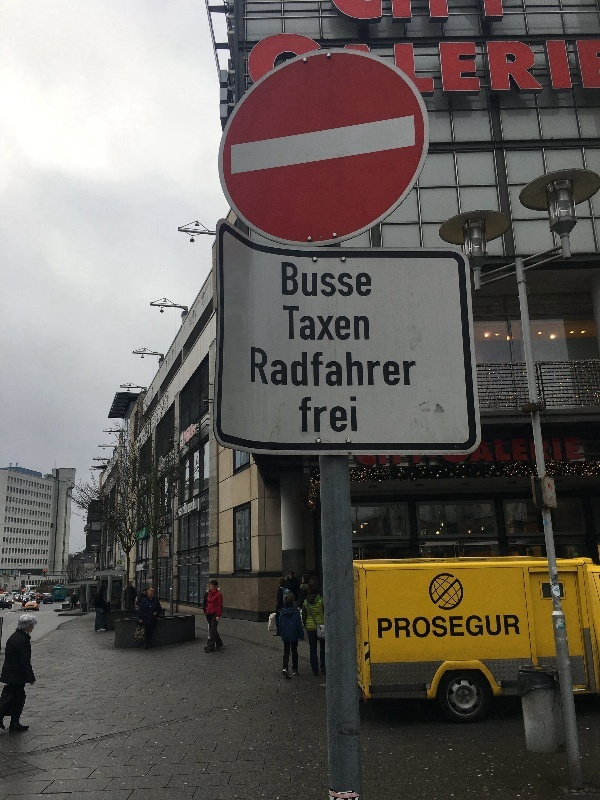text: (257, 32, 272, 97), (273, 32, 288, 97), (289, 32, 304, 97), (305, 32, 320, 97), (321, 32, 336, 97), (337, 32, 352, 97), (353, 32, 368, 97), (369, 32, 384, 97), (385, 32, 400, 97), (401, 32, 416, 97), (417, 32, 432, 97), (449, 40, 464, 96), (465, 40, 480, 96), (481, 40, 496, 96), (497, 40, 512, 96), (513, 40, 528, 96), (529, 40, 544, 96), (545, 40, 560, 96), (561, 40, 576, 96), (577, 40, 592, 96), (401, 348, 417, 389), (257, 348, 272, 389), (273, 348, 288, 389), (289, 348, 304, 389), (305, 348, 320, 389), (321, 348, 336, 389), (337, 348, 352, 389), (353, 348, 368, 389), (369, 348, 384, 389), (385, 348, 400, 389), (438, 40, 448, 96), (289, 305, 304, 342), (305, 305, 320, 342), (321, 305, 336, 342), (337, 305, 352, 342), (353, 305, 368, 342), (289, 262, 304, 298), (305, 262, 320, 298), (321, 262, 336, 298), (337, 262, 352, 298), (353, 262, 368, 298), (305, 396, 320, 432), (321, 396, 336, 432), (337, 396, 352, 432), (248, 32, 256, 97), (593, 40, 600, 96), (385, 614, 400, 639), (401, 614, 416, 639), (417, 614, 432, 639), (433, 614, 448, 639), (449, 614, 464, 639), (465, 614, 480, 639), (481, 614, 496, 639), (497, 614, 512, 639), (178, 496, 192, 520), (282, 262, 288, 298), (184, 420, 192, 446), (251, 348, 256, 389), (283, 305, 288, 342), (299, 396, 304, 432), (513, 614, 520, 639), (378, 614, 384, 639), (193, 496, 199, 520), (353, 396, 357, 432), (433, 32, 435, 97), (369, 262, 372, 298), (193, 420, 196, 446), (113, 582, 121, 587), (369, 305, 370, 342), (103, 583, 112, 587), (119, 562, 128, 565)
